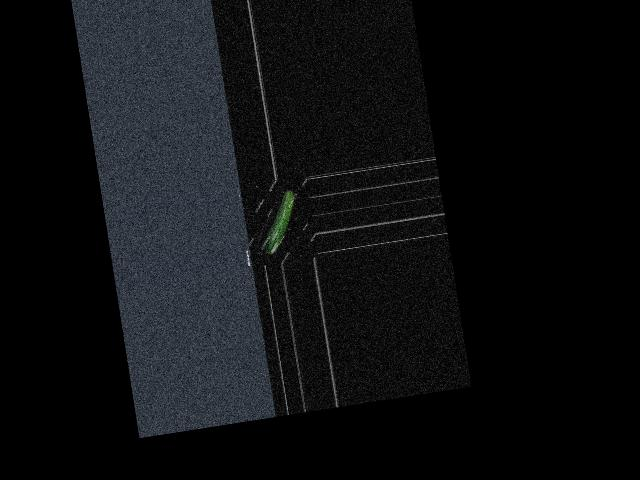cucumber: (255, 189, 302, 255)
